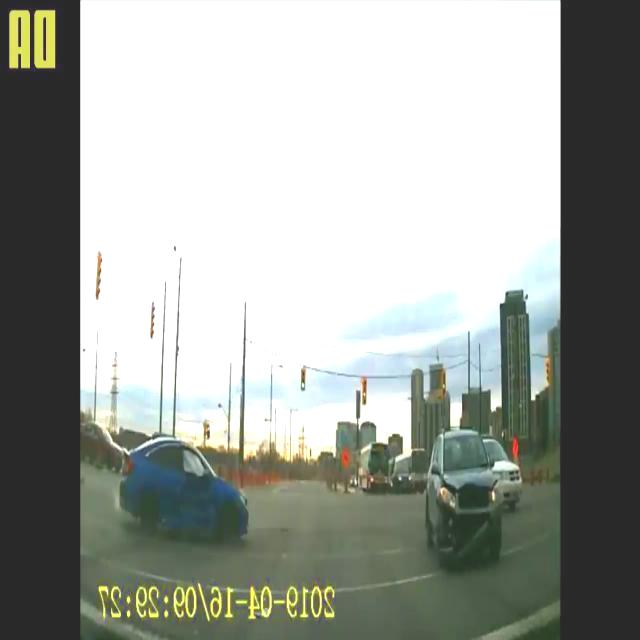accident: (426, 430, 504, 566)
non-accident: (354, 441, 428, 494)
